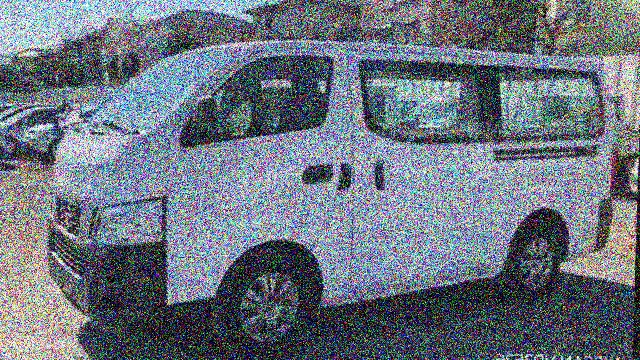van: (42, 32, 621, 360)
